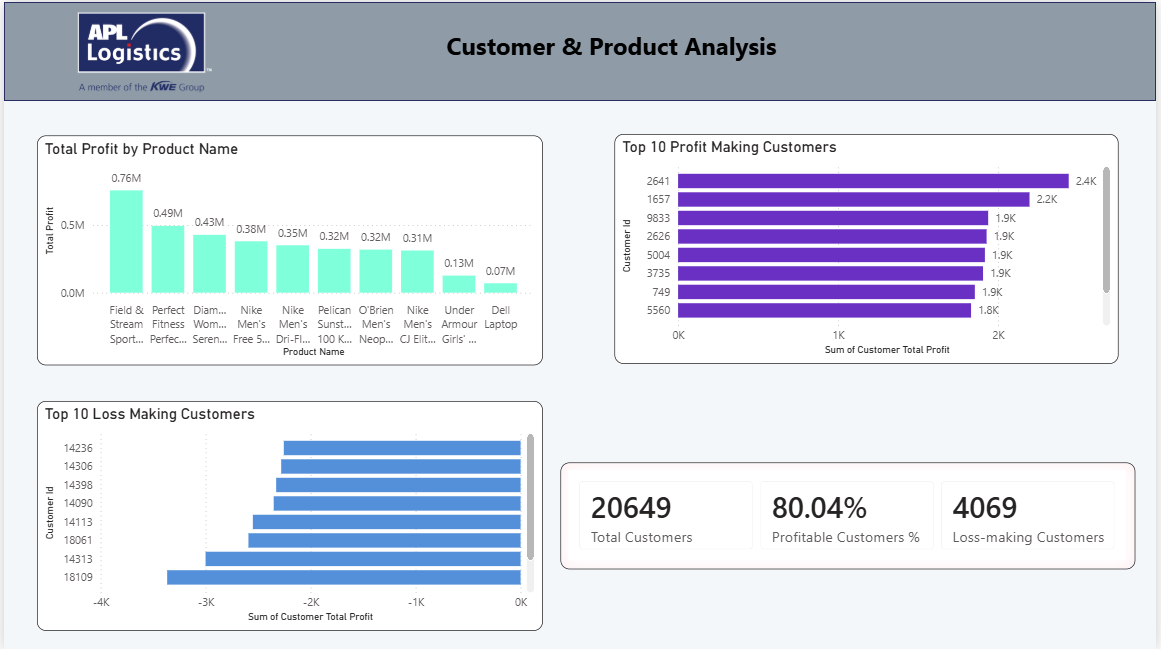

The page's visual inventory and layout, read from the dashboard file:
{"tool":"powerbi","page":{"name":"Customer & Product Analysis","canvas":[1280,720],"ordinal":2},"visuals":[{"type":"shape","box":[0,0,1280,110],"z":0},{"type":"clusteredColumnChart","fields":{"Category":["SupplyChain.Product Name"],"Y":["SupplyChain.Total Profit"]},"box":[36.7,148.3,561.7,255],"z":1000},{"type":"clusteredBarChart","title":"Top 10 Profit Making Customers","fields":{"Category":["Customer Profitability.Customer Id"],"Y":["Sum(Customer Profitability.Customer Total Profit)"]},"box":[678.3,146.7,560,255],"z":2000},{"type":"clusteredBarChart","title":"Top 10 Loss Making Customers","fields":{"Category":["Customer Profitability.Customer Id"],"Y":["Sum(Customer Profitability.Customer Total Profit)"]},"box":[36.7,443.3,561.7,255],"z":3000},{"type":"cardVisual","fields":{"Data":["Customer Profitability.Total Customers","Customer Profitability.Profitable Customers %","Customer Profitability.Loss-making Customers"]},"box":[618.3,511.7,638.3,118.3],"z":4000},{"type":"textbox","box":[450,24.3,457.1,61.4],"z":5000},{"type":"image","box":[60,11.4,192.9,88.6],"z":5001}]}

Visuals, with their boxes in screenshot pixels (x1, y1, x2, y2), scaled from the page's 1280x720 canvas onto the 1161x649 screenshot:
shape: region(0, 0, 1160, 99)
clusteredColumnChart - SupplyChain.Product Name x SupplyChain.Total Profit: region(33, 134, 543, 364)
"Top 10 Profit Making Customers" clusteredBarChart: region(615, 132, 1123, 362)
"Top 10 Loss Making Customers" clusteredBarChart: region(33, 400, 543, 629)
cardVisual - Customer Profitability.Total Customers x Customer Profitability.Profitable Customers %: region(561, 461, 1140, 568)
textbox: region(408, 22, 823, 77)
image: region(54, 10, 229, 90)
